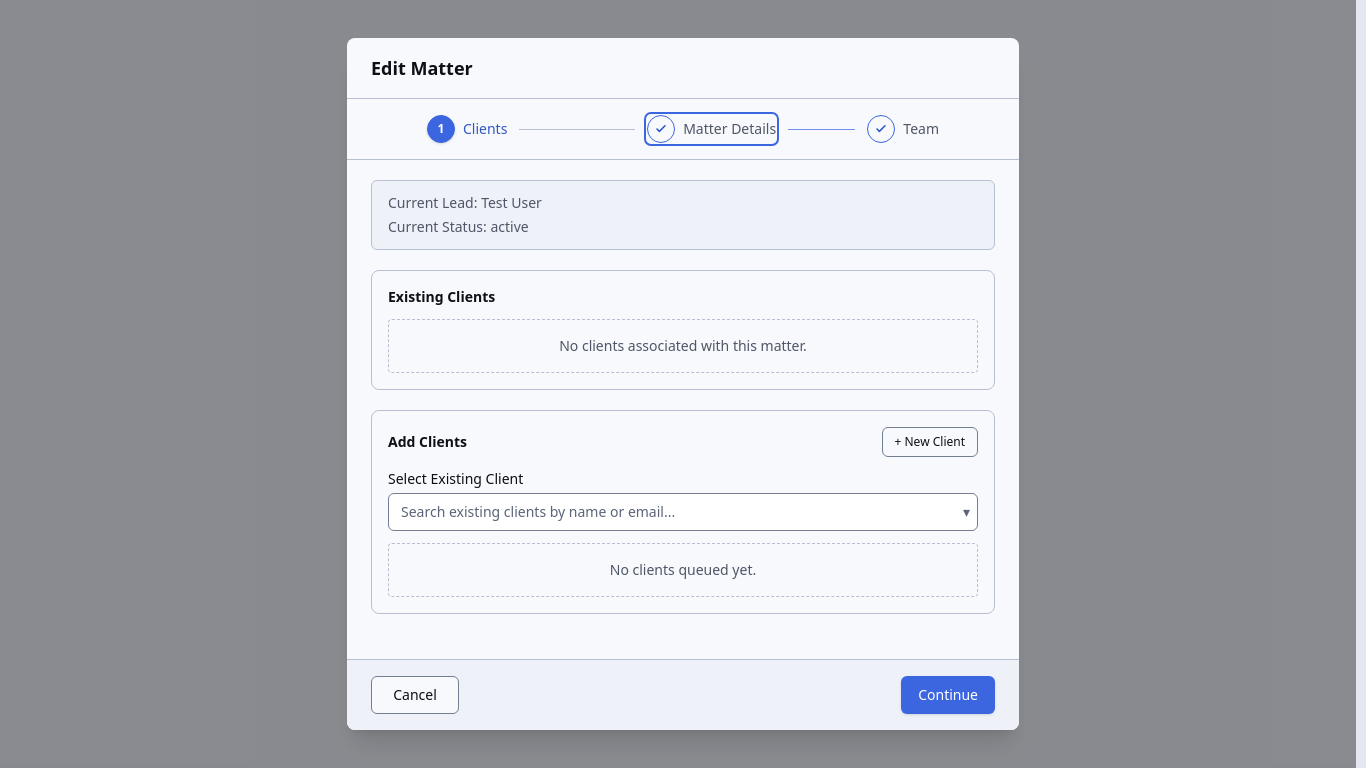
Scenario: a matter refresh while a partly failed save is on screen › keeps the client that was not added queued, with the reason
Click the button "+ New Client" at (930, 442), box x1=882 y1=427 x2=978 y2=457
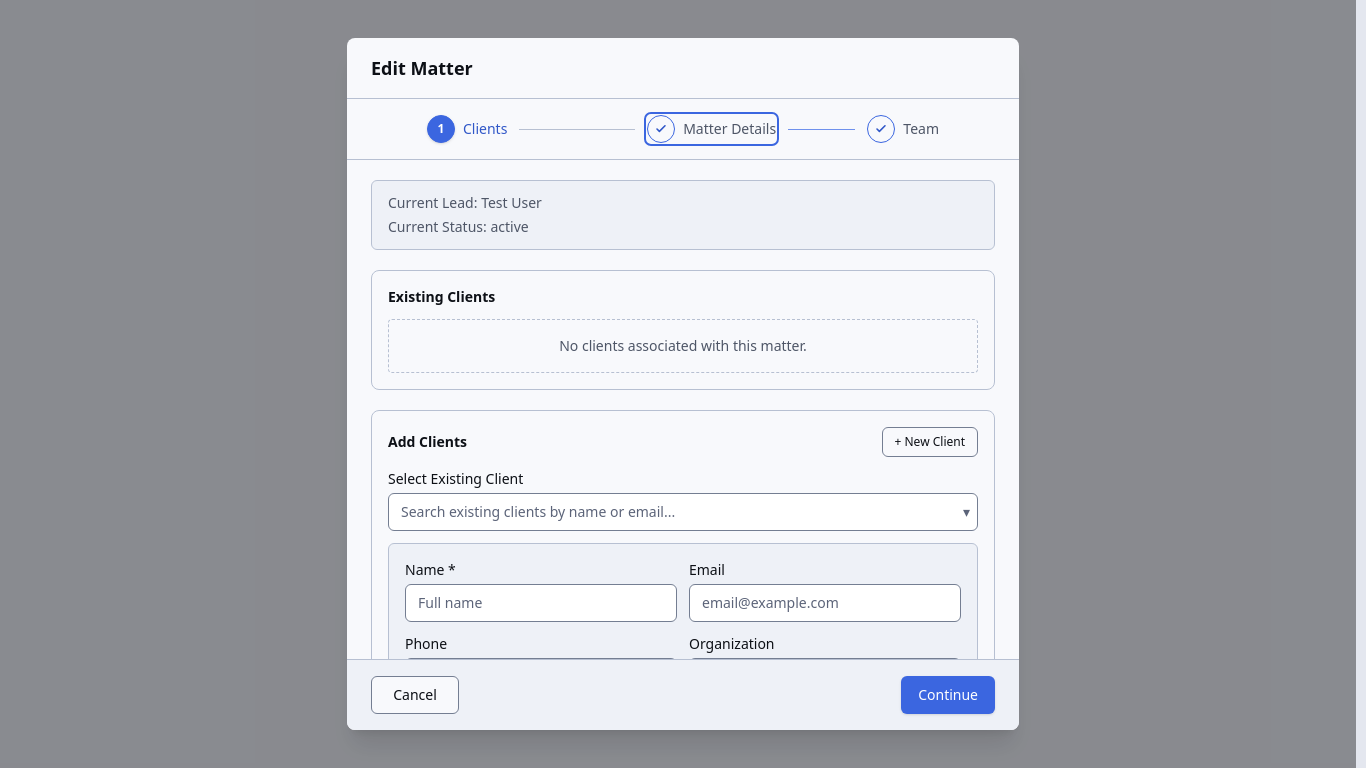
Type "Jane Client" into the field with placeholder "Full name" at (541, 603), box x1=405 y1=584 x2=677 y2=622
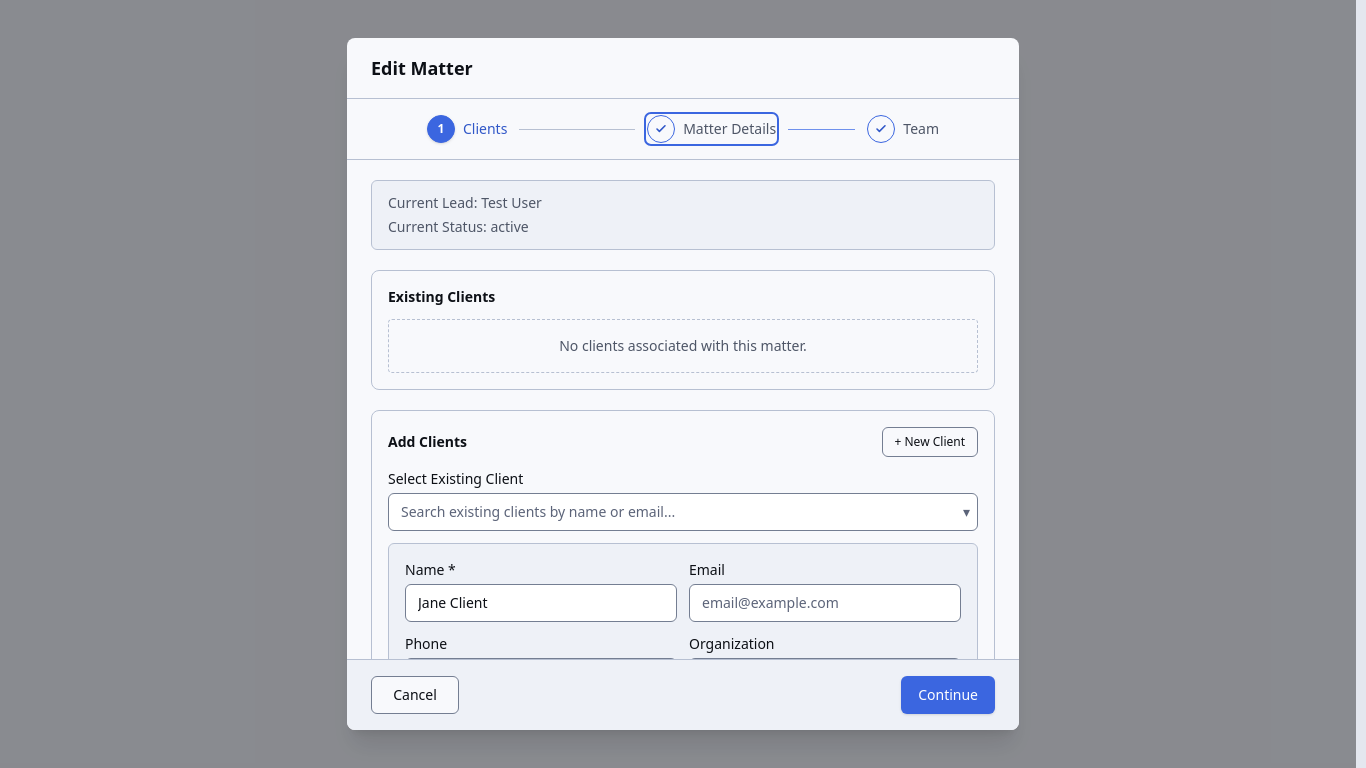
Click the button with aria-label "Team," at (903, 129), box x1=867 y1=115 x2=939 y2=143
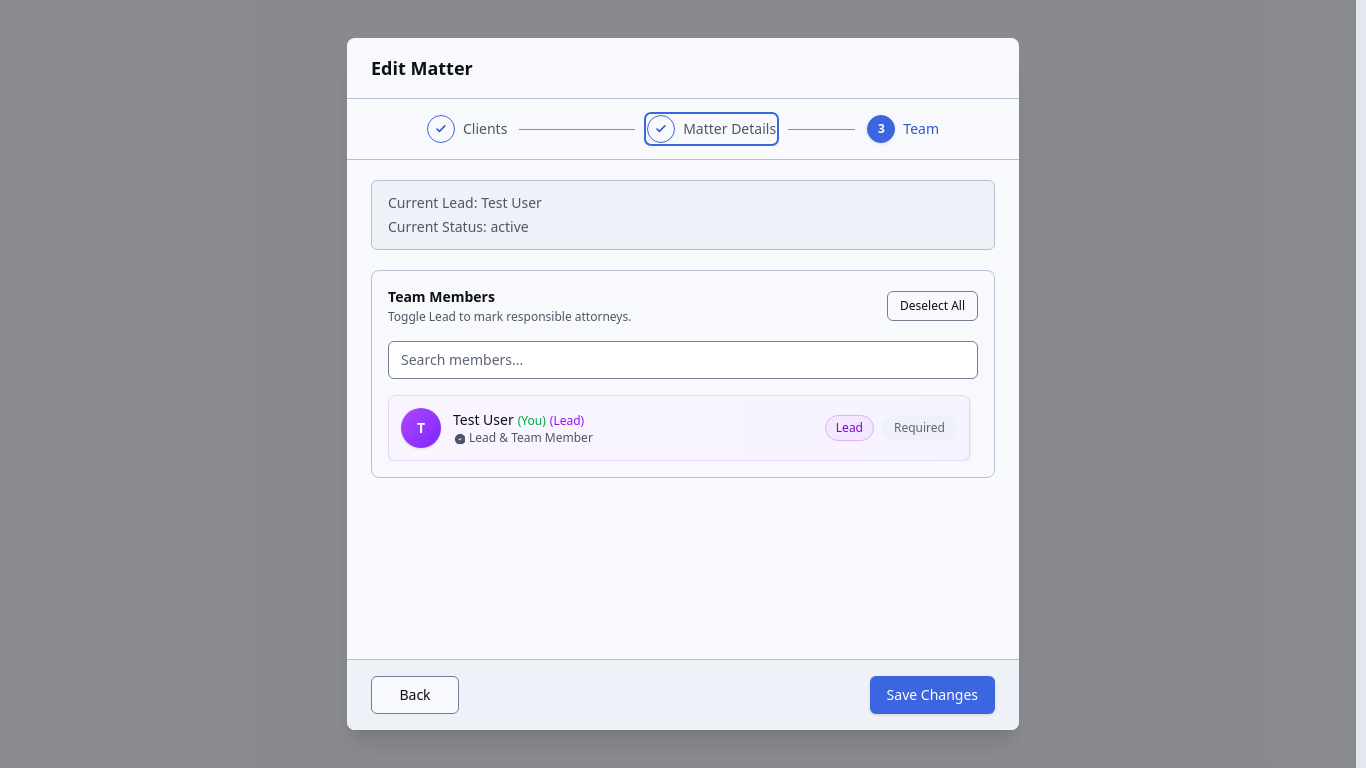
Click the button "Save Changes" at (932, 695), box x1=870 y1=676 x2=995 y2=714
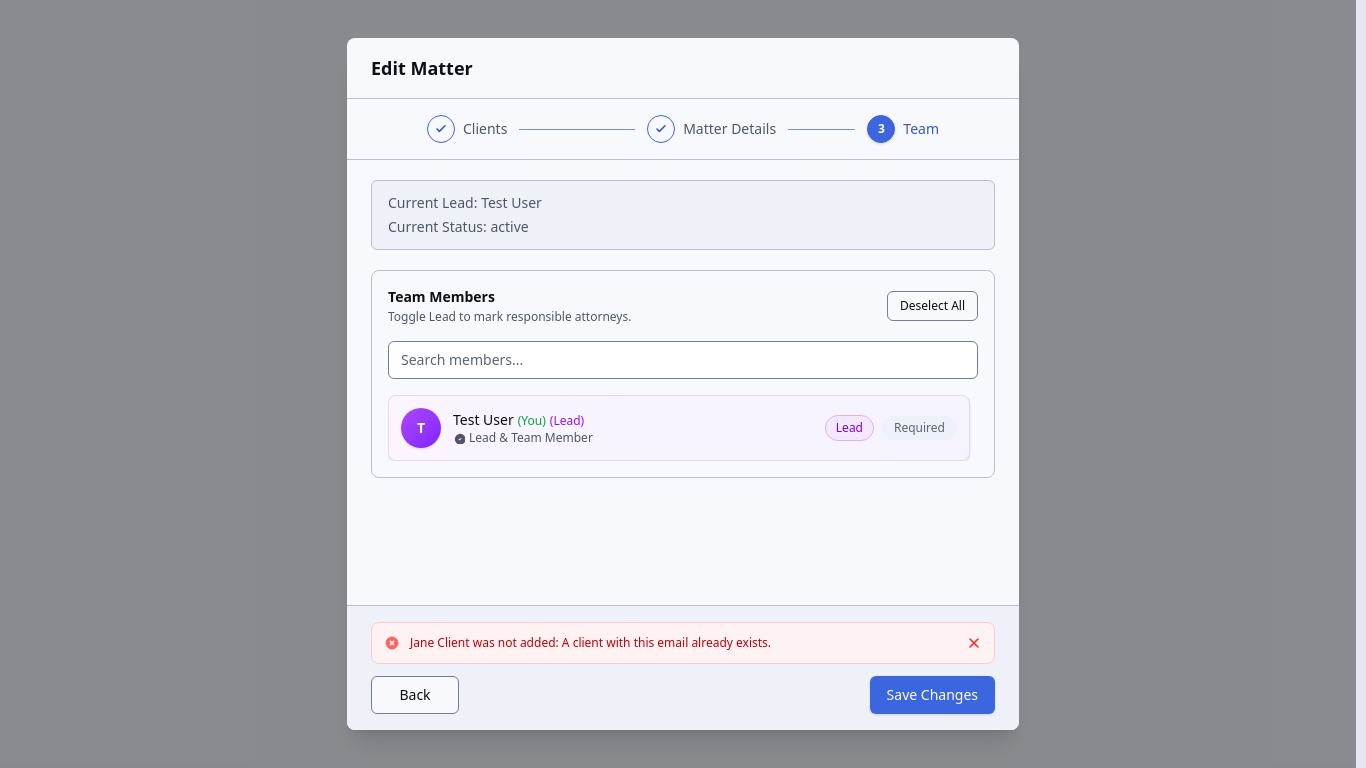
Now the text "A client with this email already exists" is shown, box x1=410 y1=634 x2=771 y2=651
Click the button with aria-label "Clients," at (467, 129), box x1=427 y1=115 x2=507 y2=143
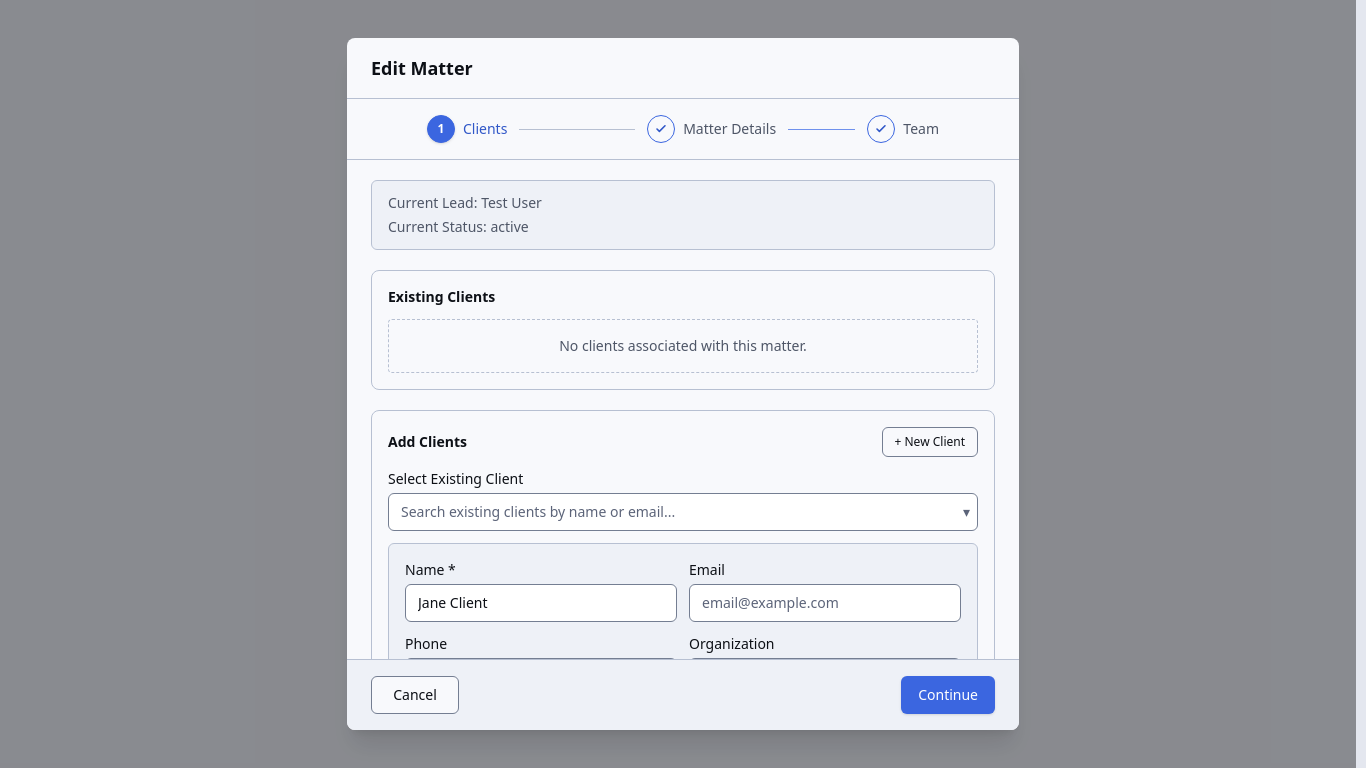
Now the field with placeholder "Full name" holds "Jane Client", box x1=405 y1=584 x2=677 y2=622
